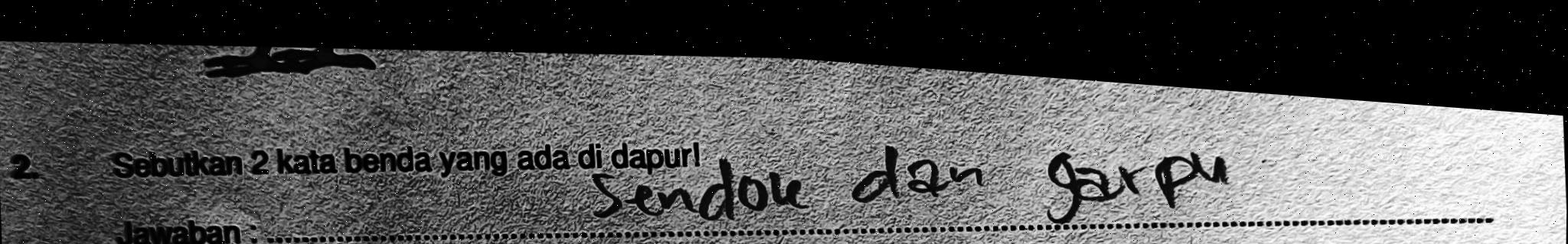jawaban: (1027, 125, 1240, 226), (588, 149, 813, 219), (840, 136, 992, 203)
